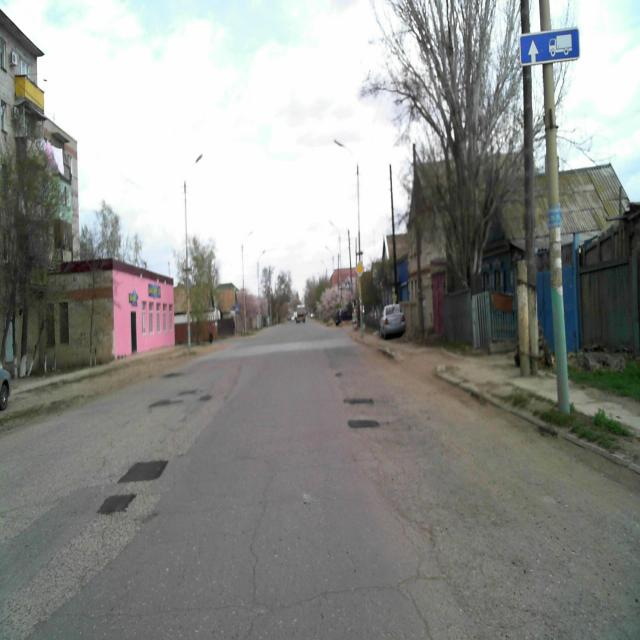road sign: (520, 25, 579, 66), (355, 260, 365, 277)
